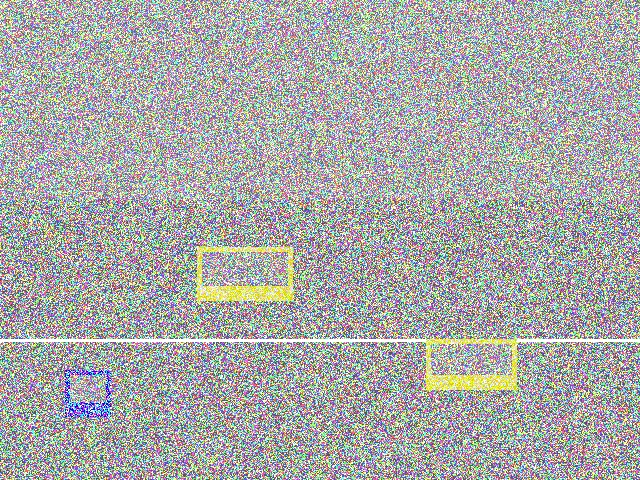truck: (100, 111, 222, 221)
